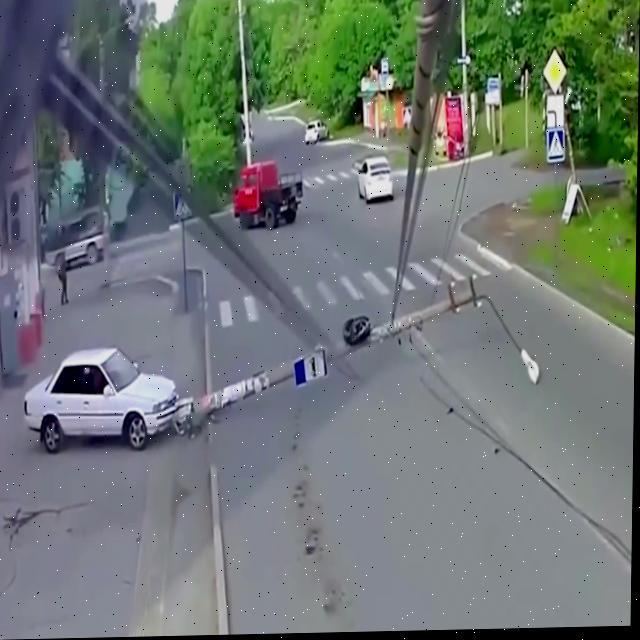single accident: (17, 295, 583, 490)
